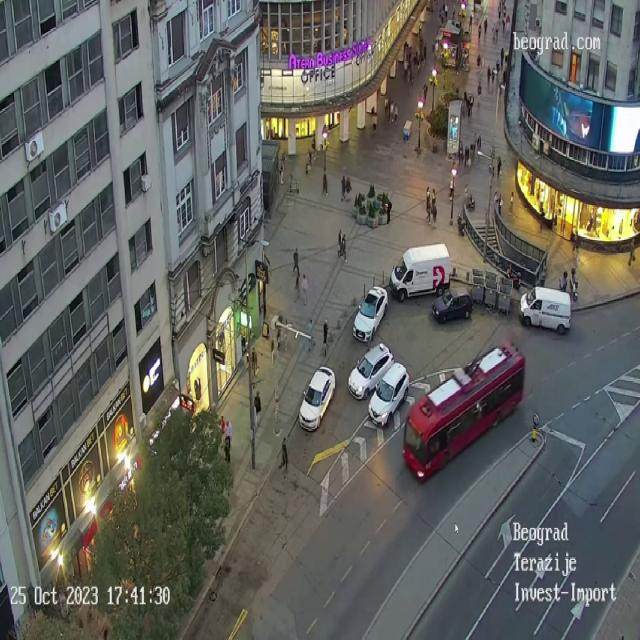bus: (402, 342, 525, 482)
car: (388, 246, 454, 299), (350, 341, 392, 401), (298, 365, 336, 431), (371, 362, 409, 427), (521, 286, 571, 335), (352, 286, 388, 343), (431, 288, 473, 323)
